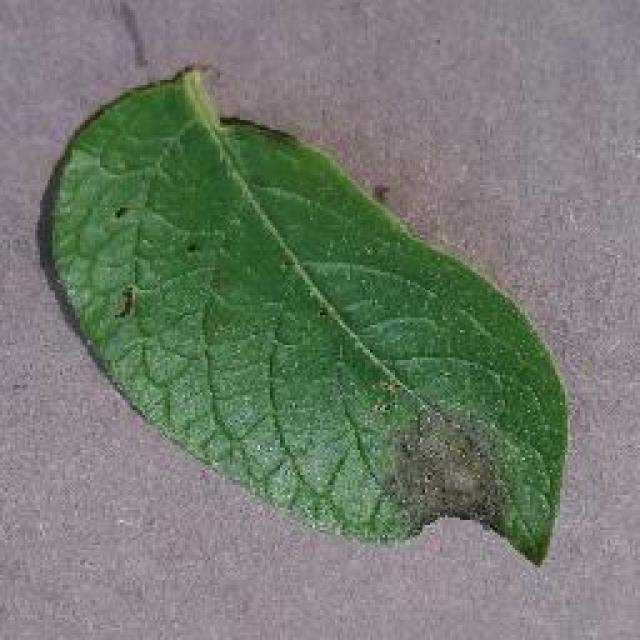Potato___Late_blight: (42, 62, 573, 572)
